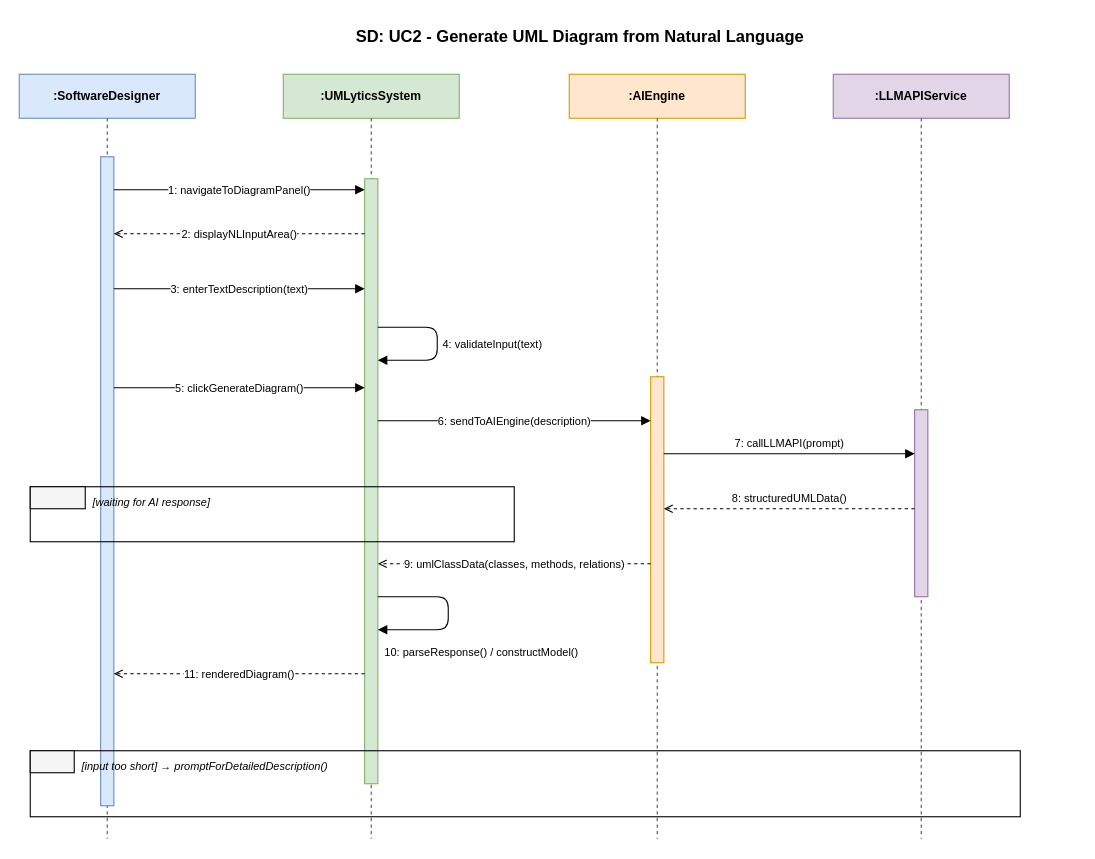
This 1095x859 diagram has some shape labels left out. Each missing label, with the box of its shape:
alt: (29, 750, 74, 773)
loop: (29, 486, 85, 509)
